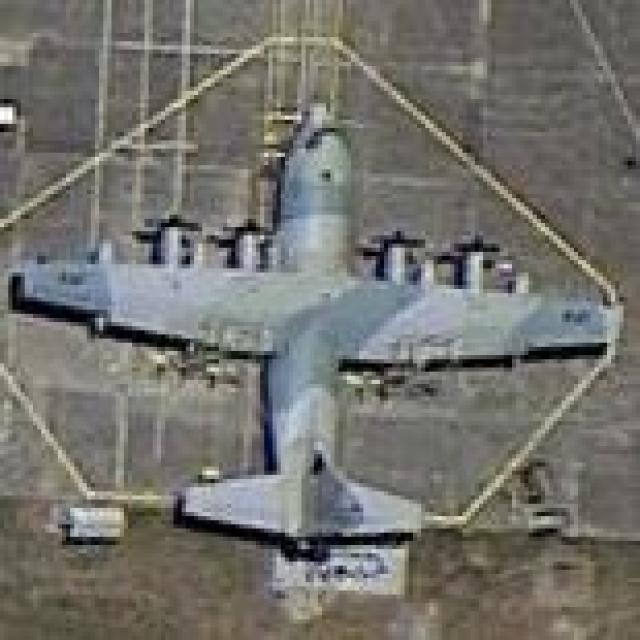C-130_TopDown: (7, 88, 627, 570)
